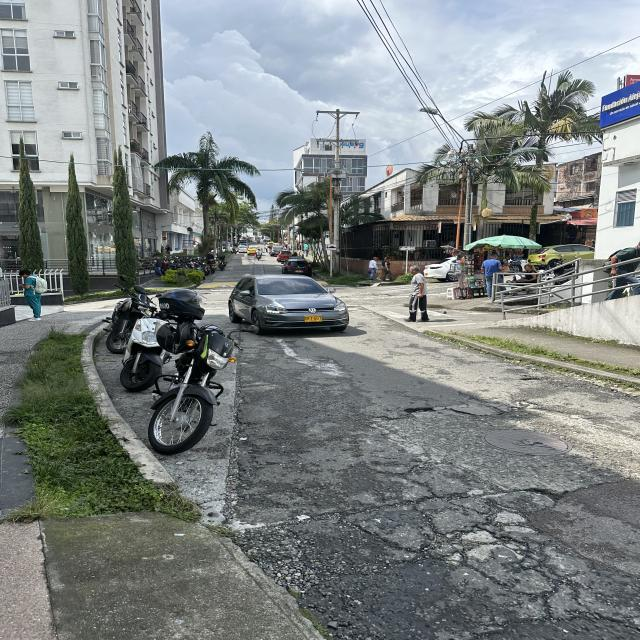number plate: (304, 315, 322, 322)
